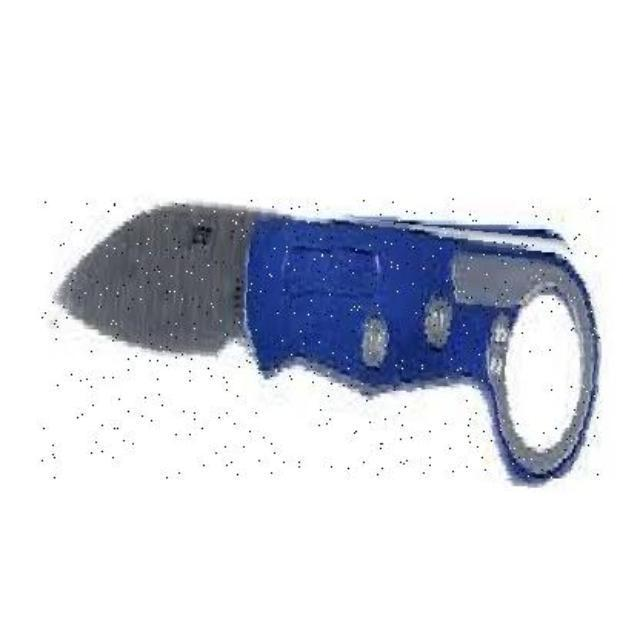Knife: (42, 198, 602, 478)
